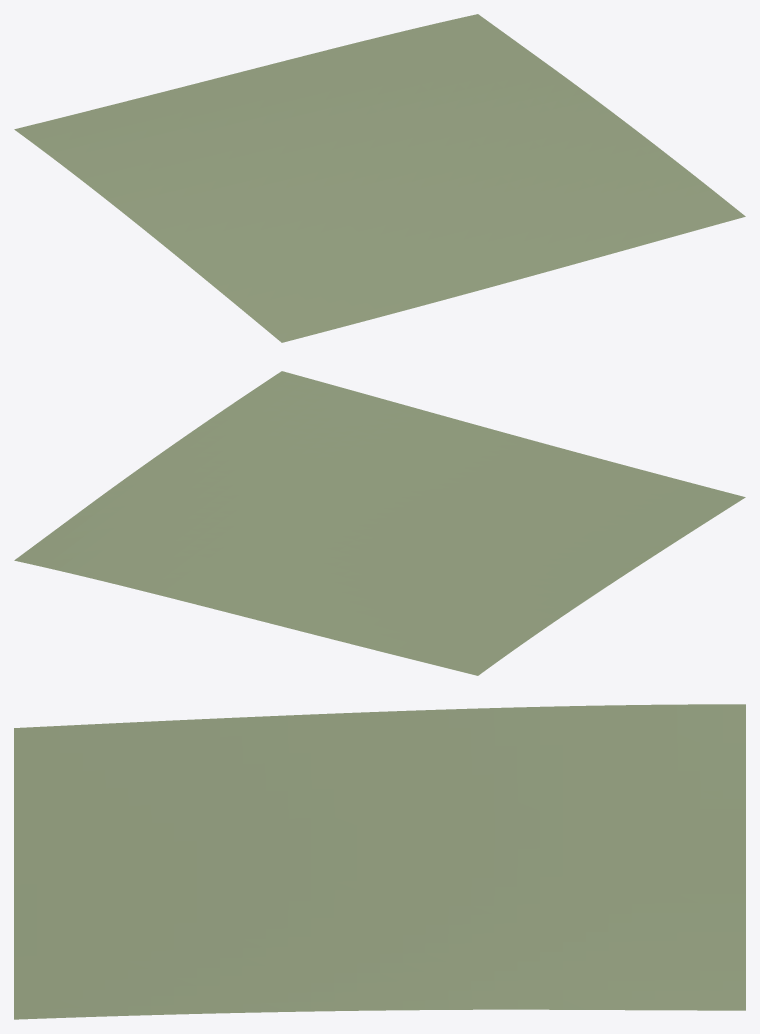
File: desert-8-17.glb
3 renders of one model, top to bottom at view 1: azimuth 30°, elevation 25°; view 2: azimuth 150°, elevation 25°; view 3: azimuth 270°, elevation 25°, orthographic. The views are drawn at different scales.
Parts seen in each view (by area): view 1: desert-8-17; view 2: desert-8-17; view 3: desert-8-17.
Part boxes in pixels (bbox=[...]): desert-8-17: bbox=[14, 14, 745, 342]; desert-8-17: bbox=[14, 371, 745, 675]; desert-8-17: bbox=[14, 704, 745, 1019].
Bounding box in the file's own units: 512 × 21.74 × 512.
